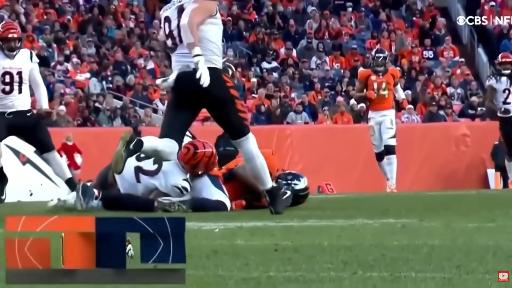Helmet: (178, 140, 217, 175), (276, 171, 309, 206), (0, 21, 21, 58), (372, 47, 388, 70), (496, 53, 511, 74)
Jersey: (115, 154, 187, 197), (161, 0, 196, 70), (0, 49, 38, 111), (217, 156, 265, 205), (358, 67, 400, 111), (486, 75, 511, 116)
Player: (157, 0, 291, 214), (0, 20, 81, 192), (64, 140, 230, 211), (76, 132, 190, 211), (356, 47, 407, 191), (486, 53, 511, 178), (222, 158, 267, 209)
